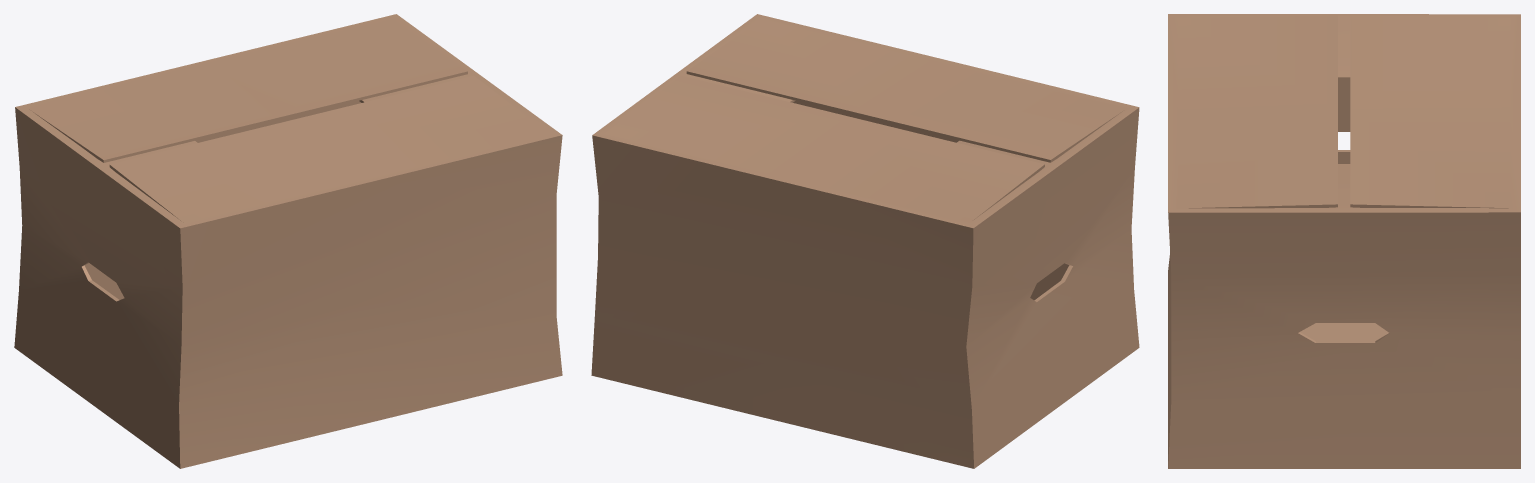
File: Cardboard Box 4.fbx
3 views of the same model, side by side, from view 1: azimuth 30°, elevation 25°; view 2: azimuth 150°, elevation 25°; view 3: azimuth 270°, elevation 25° (orthographic). The views are drawn at different scales.
Parts seen in each view (by area): view 1: Cardboard_Box_3; view 2: Cardboard_Box_3; view 3: Cardboard_Box_3.
Part boxes in pixels (left/top/right/bottom): Cardboard_Box_3: left=14, top=14, right=562, bottom=468; Cardboard_Box_3: left=591, top=14, right=1139, bottom=468; Cardboard_Box_3: left=1168, top=14, right=1520, bottom=468.
Size of the model in its own units: 36.25 by 22.06 by 27.18.
